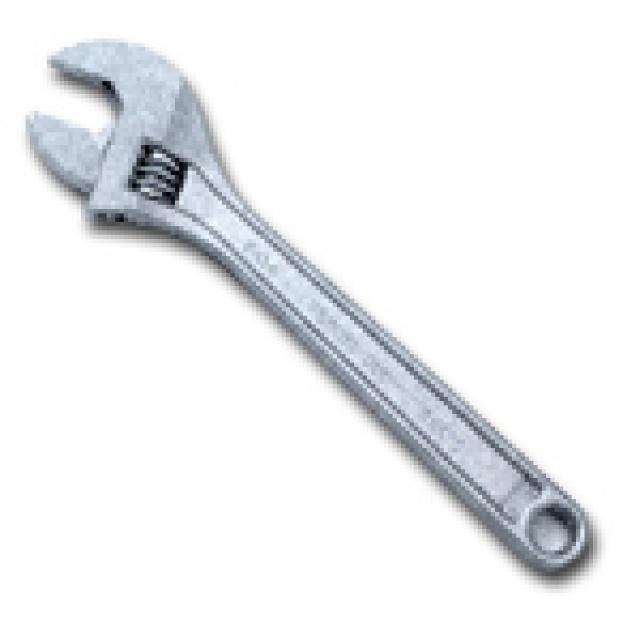wrench: (19, 34, 600, 586)
